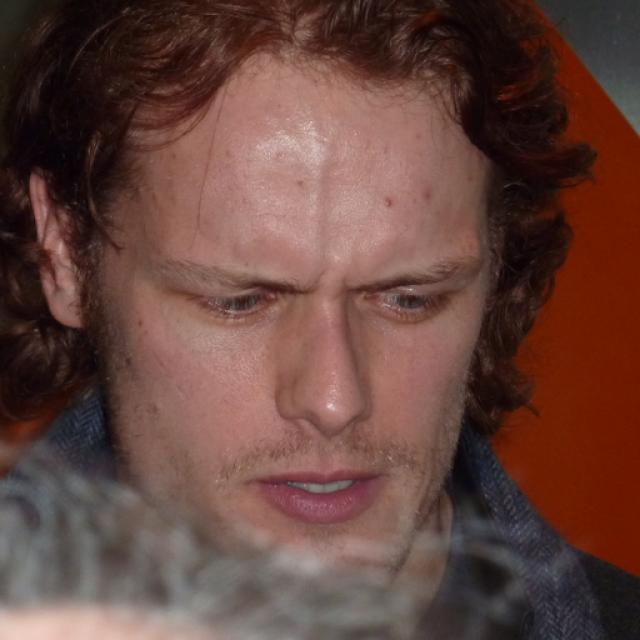Acne: (378, 190, 399, 212)
